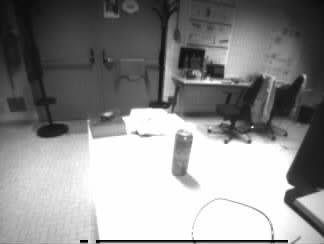Tin can: (171, 131, 193, 175)
